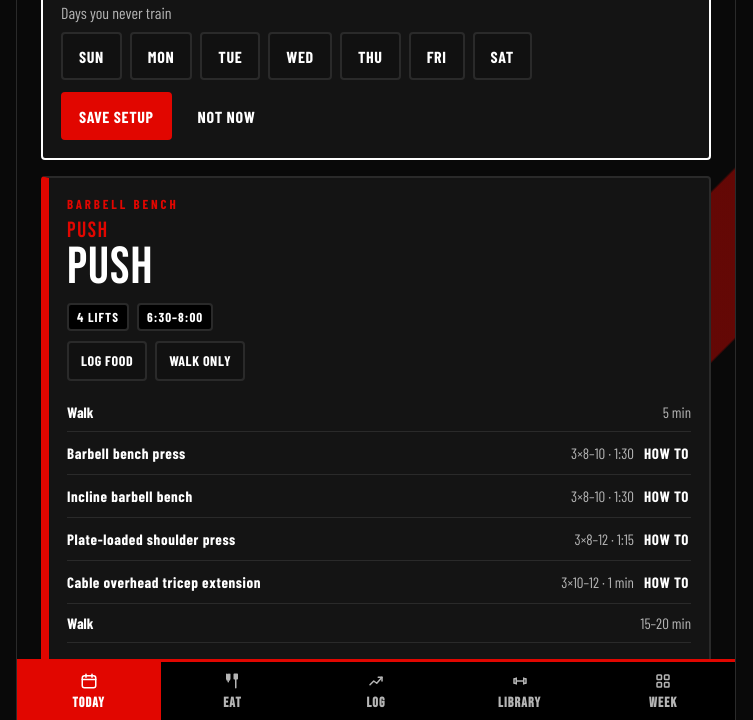
Test: Gym Log app › logs a typed food from Today and keeps the Gemini key out of backup
The width and height of the screenshot is (753, 720).
(page scrolled)
Click the button "Log food" at (107, 361), box [67, 341, 147, 381]
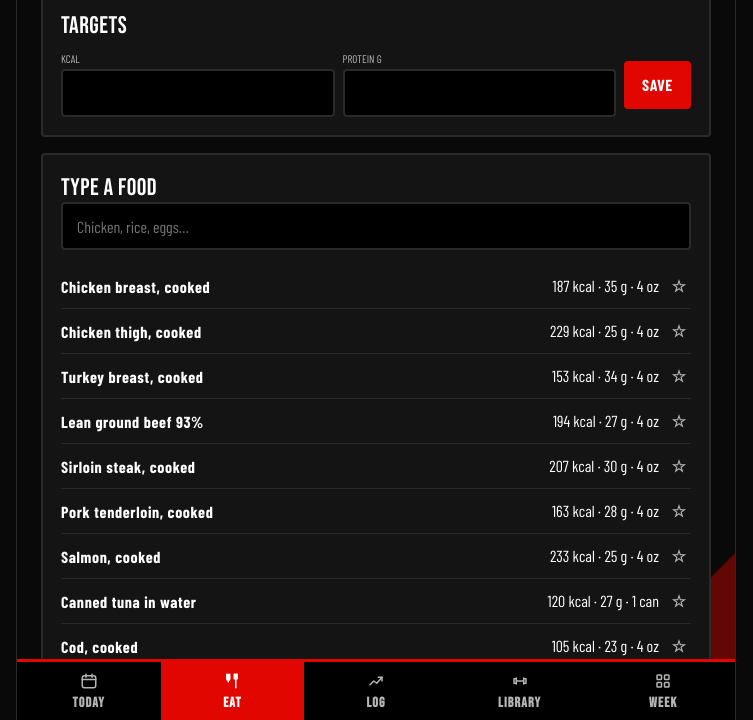
Type "2000" into the number field labelled "kcal" at (198, 94), box [61, 70, 334, 118]
Type "160" into the number field labelled "protein g" at (479, 94), box [342, 70, 616, 118]
Click the button "Save" at (658, 85), box [624, 61, 691, 109]
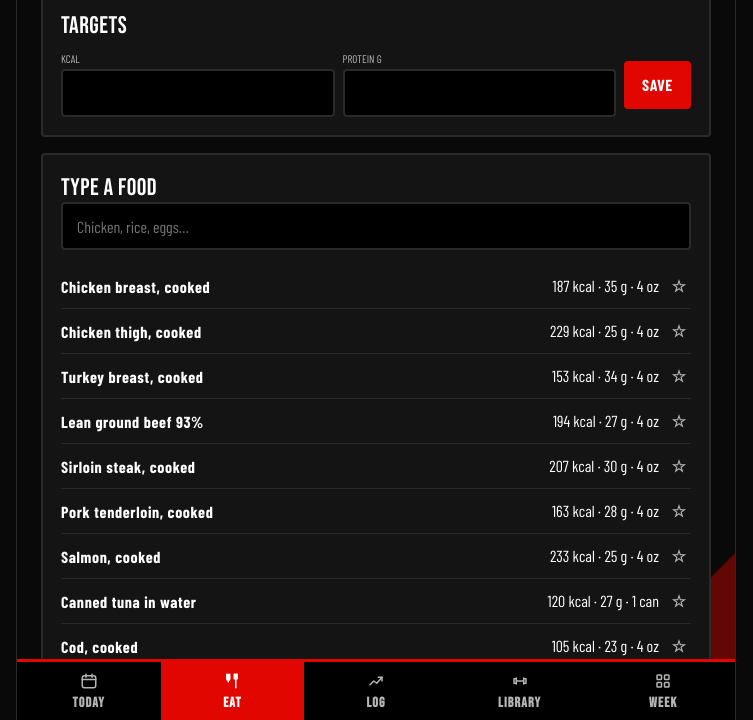
Type "chicken breast" into the search field with placeholder "Chicken, rice, eggs…" at (376, 226), box [61, 202, 691, 250]
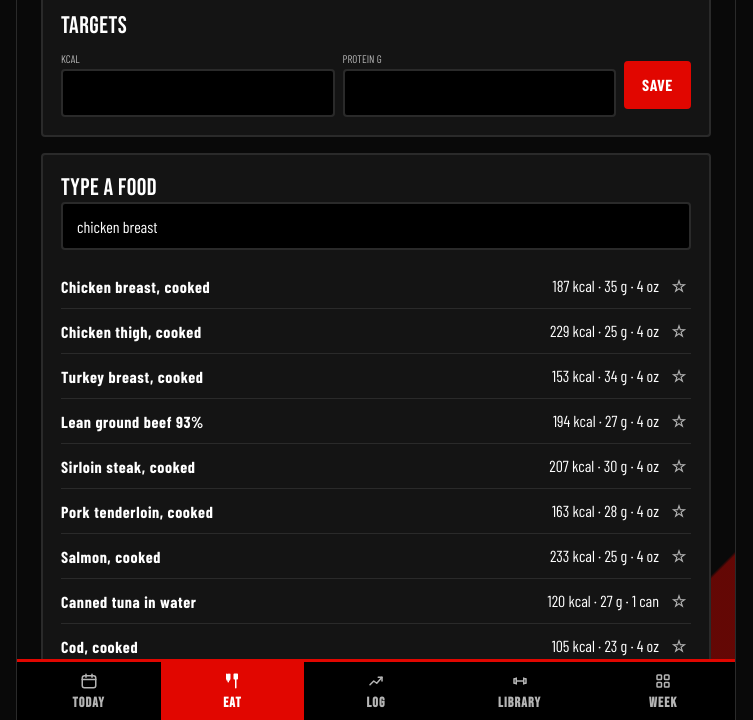
Click the button "Chicken breast, cooked" at (136, 286), box [61, 274, 210, 298]
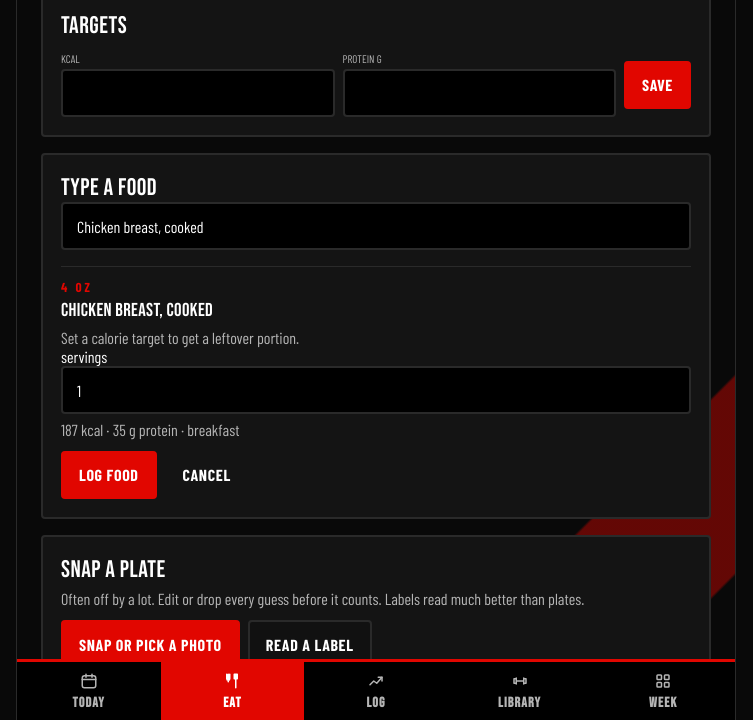
Click the button "Log food" at (109, 475), box [61, 451, 157, 499]
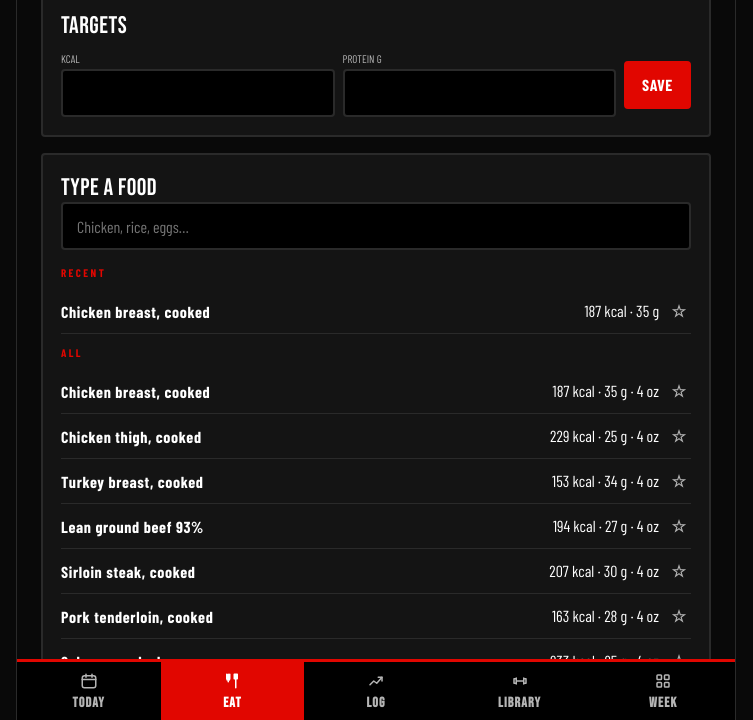
Result: the text "Chicken breast" is shown at [61, 300, 210, 324]
Click the button "Today" at (89, 691), box [17, 662, 161, 719]
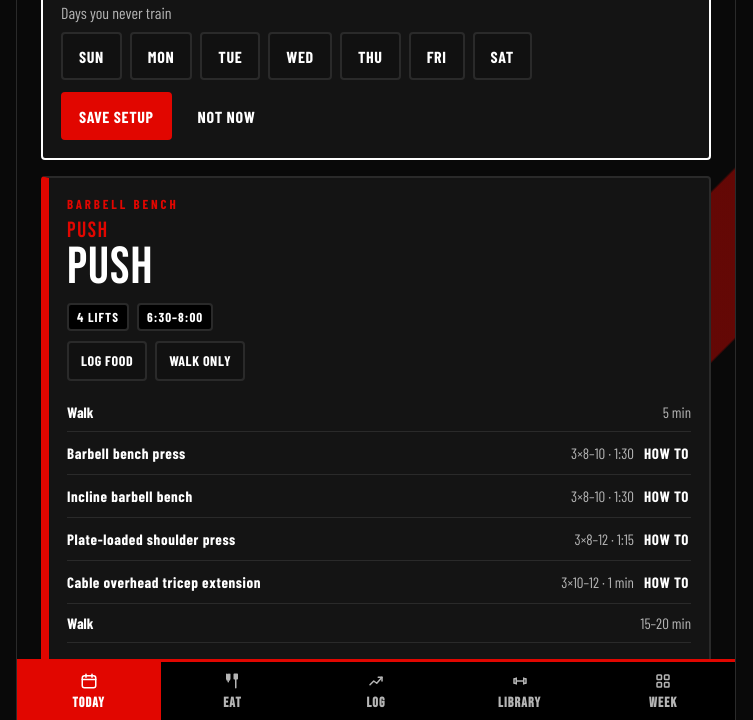
Result: the text "Log food" is shown at [67, 341, 147, 381]
Result: the text "Type a food" is gone
